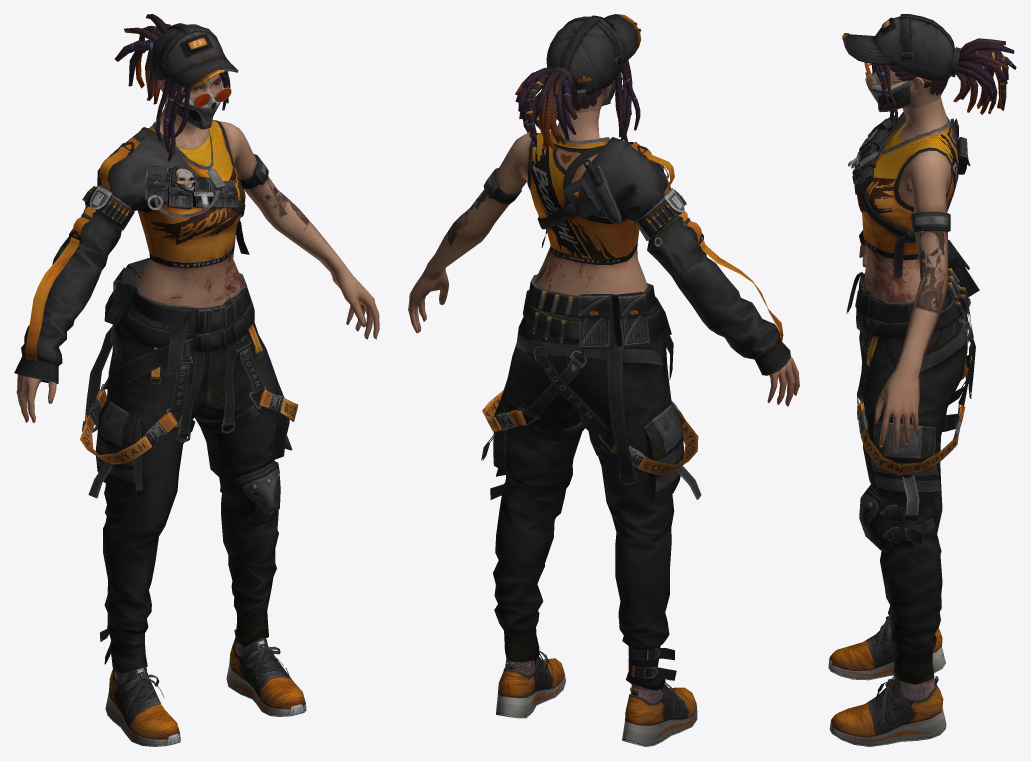
File: booyah_girl_free_fire.glb
3 views of the same model, side by side, from view 1: azimuth 30°, elevation 25°; view 2: azimuth 150°, elevation 25°; view 3: azimuth 270°, elevation 25° (orthographic). The views are drawn at different scales.
Parts seen in each view (by area): view 1: Celana, Baju, Badan, Sepatu, Topi, Rambut, Mask; view 2: Celana, Baju, Badan, Sepatu, Topi, Rambut; view 3: Celana, Badan, Baju, Sepatu, Topi, Rambut, Mask.
Boxes of the visible parts, bbox=[...] form: Celana: bbox=[80, 258, 298, 682]; Baju: bbox=[14, 120, 268, 383]; Badan: bbox=[16, 74, 379, 422]; Sepatu: bbox=[105, 629, 306, 746]; Topi: bbox=[150, 23, 238, 88]; Rambut: bbox=[114, 14, 230, 161]; Mask: bbox=[165, 79, 231, 129]; Celana: bbox=[481, 274, 701, 702]; Baju: bbox=[483, 131, 790, 375]; Badan: bbox=[408, 85, 799, 406]; Sepatu: bbox=[496, 651, 697, 746]; Topi: bbox=[546, 14, 640, 96]; Rambut: bbox=[515, 60, 640, 151]; Celana: bbox=[846, 239, 979, 699]; Badan: bbox=[859, 66, 956, 451]; Baju: bbox=[848, 111, 970, 278]; Sepatu: bbox=[828, 616, 946, 746]; Topi: bbox=[842, 14, 954, 81]; Rambut: bbox=[872, 38, 1016, 124]; Mask: bbox=[864, 62, 931, 111].
Bounding box in the file's own units: 8.69 × 15.63 × 3.88.
8 materials, 8 textured.
